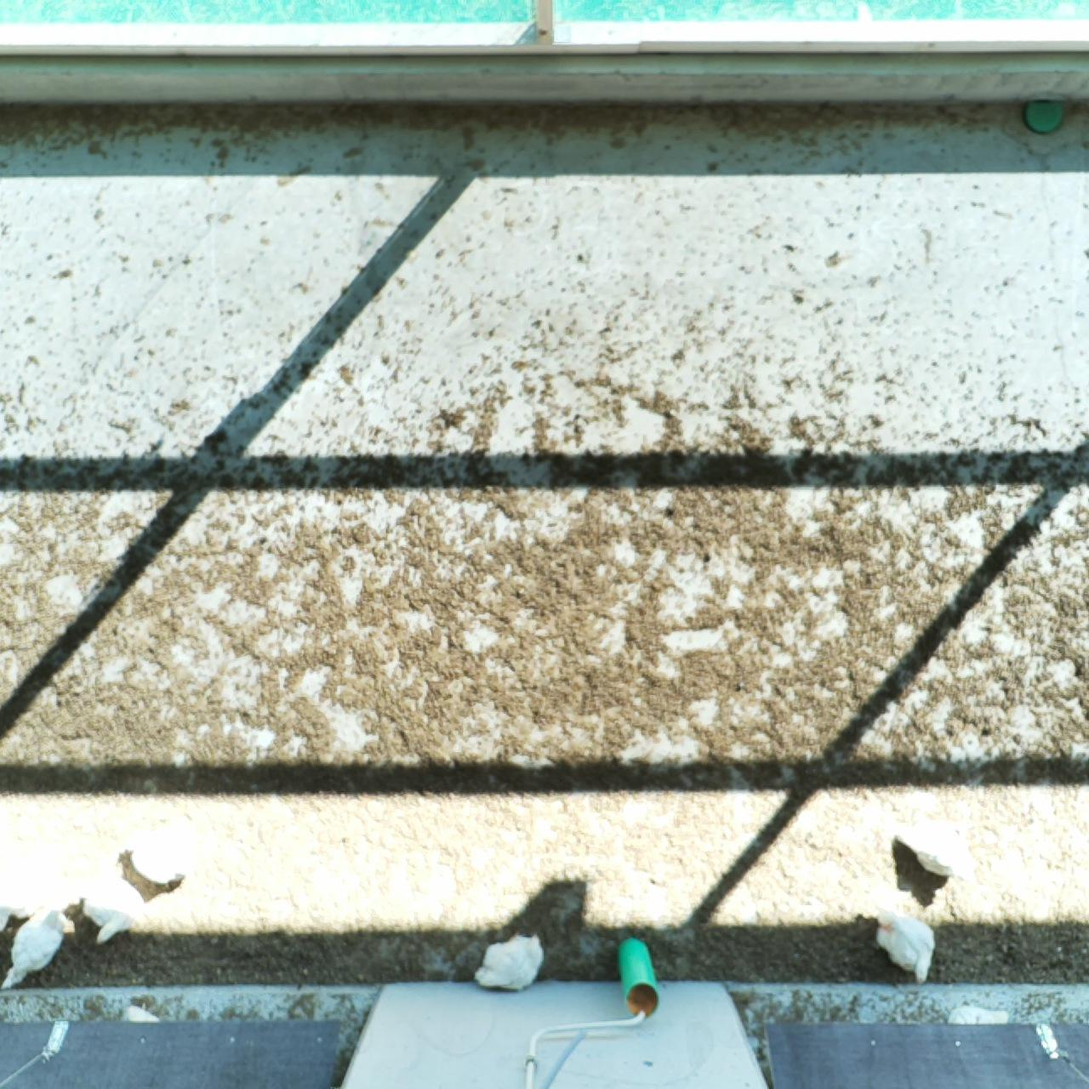chicken: (889, 812, 982, 885), (70, 867, 153, 944), (0, 900, 67, 993), (869, 902, 941, 986), (471, 929, 549, 996), (122, 828, 192, 892)
